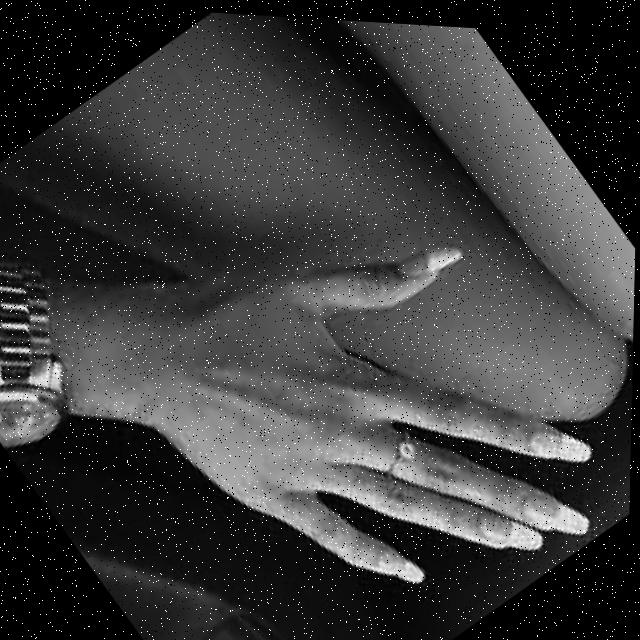hand: (97, 129, 638, 640)
